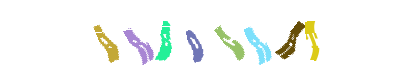0: (158, 0, 238, 80)
A: (209, 0, 289, 80)
B: (155, 0, 235, 80)
C: (161, 0, 241, 80)
Q: (106, 0, 186, 80)
R: (124, 0, 204, 80), (193, 0, 273, 80)
T: (251, 0, 331, 80)
